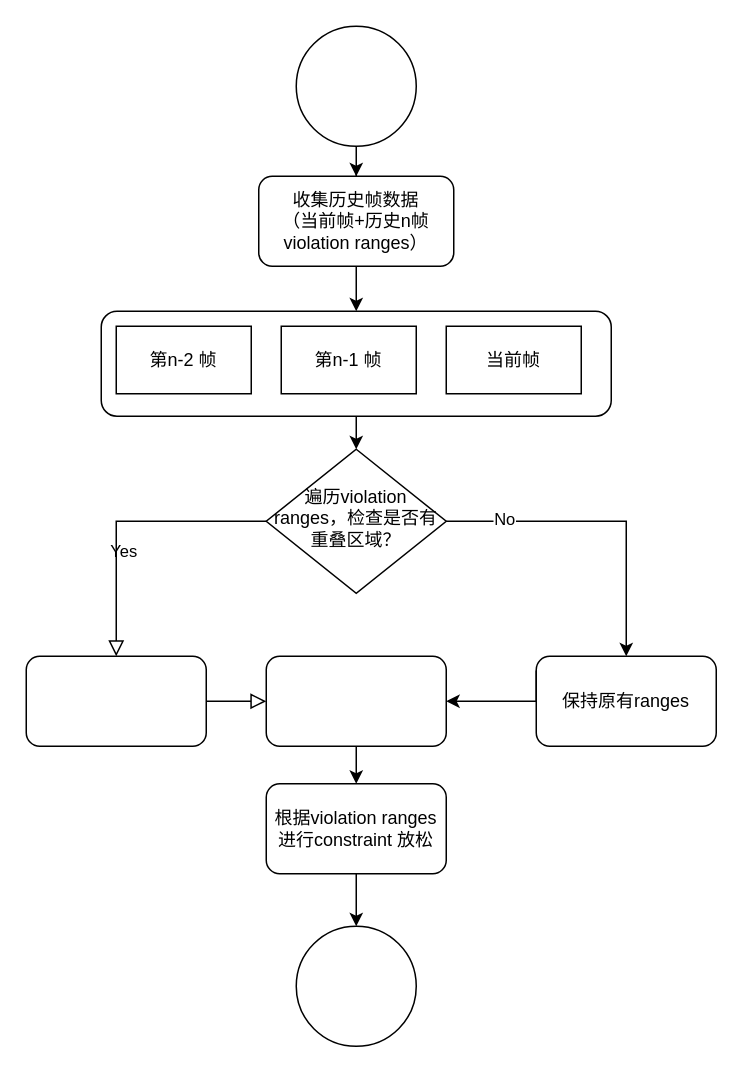
Some shapes in this 743 by 1073 pixel diagram are drawn without their labels. The shapes that lost their labels are listed below. From the top down, each one's centre as x and y in pixels, then its label:
the point at 355,85: 开始
the point at 115,700: 合并重叠区域
the point at 355,700: 更新合并后的violation ranges
the point at 355,985: 结束
